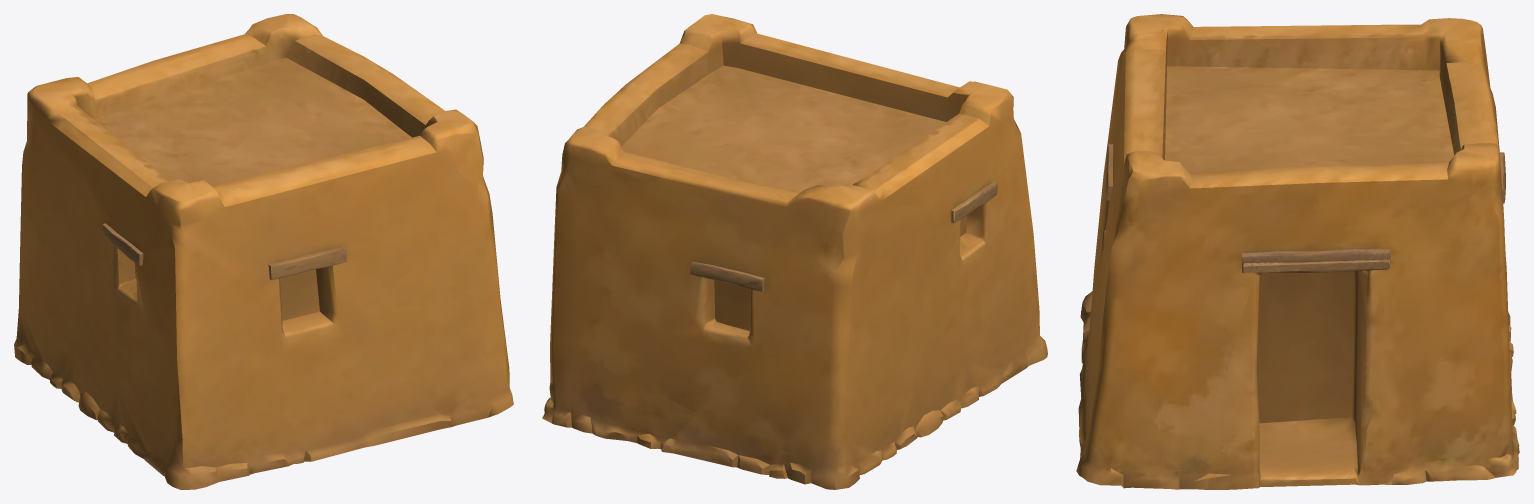
File: biome_home.glb
3 renders of one model, left to right at view 1: azimuth 30°, elevation 25°; view 2: azimuth 150°, elevation 25°; view 3: azimuth 270°, elevation 25°, orthographic. The views are drawn at different scales.
Visible parts, largest first — view 1: tripo_node_a7f0f37f-2d82-492d-b2e4-19c08eb1468c; view 2: tripo_node_a7f0f37f-2d82-492d-b2e4-19c08eb1468c; view 3: tripo_node_a7f0f37f-2d82-492d-b2e4-19c08eb1468c.
Boxes of the visible parts, bbox=[...] form: tripo_node_a7f0f37f-2d82-492d-b2e4-19c08eb1468c: bbox=[14, 14, 513, 489]; tripo_node_a7f0f37f-2d82-492d-b2e4-19c08eb1468c: bbox=[542, 14, 1047, 489]; tripo_node_a7f0f37f-2d82-492d-b2e4-19c08eb1468c: bbox=[1076, 14, 1519, 489].
Bounding box in the file's own units: 0.9912 × 0.7762 × 1.
Materials: 1 (1 with a texture image).
